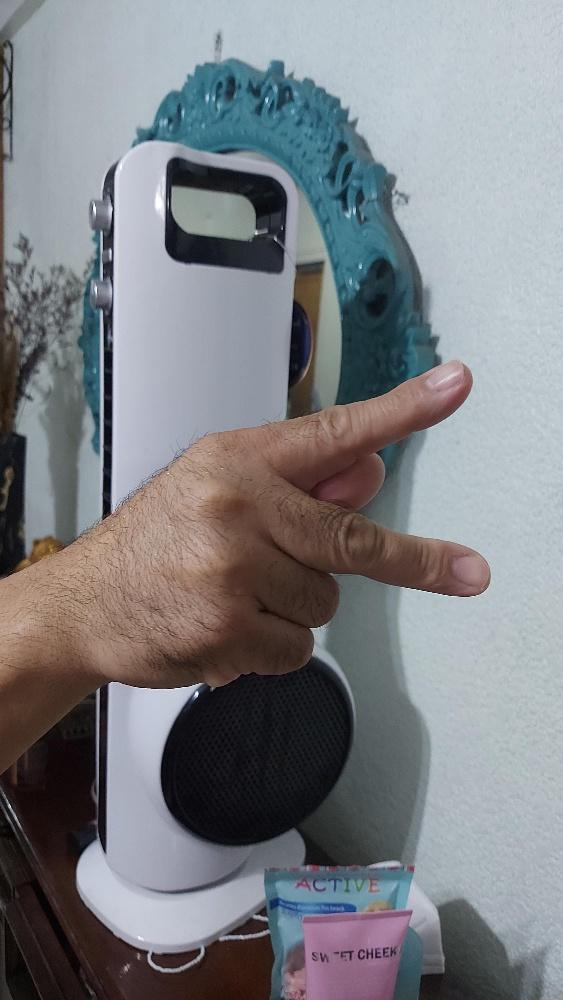k: (60, 357, 490, 689)
